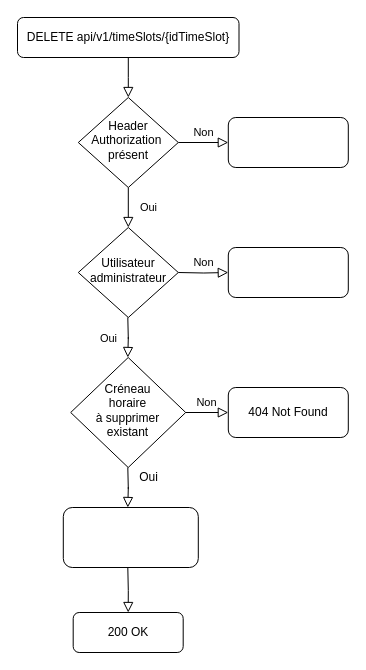
Image size: 366x670. Some labels were removed from this diagram. The centre of each missing label's shape, as x and y in pixels:
"401 Unauthorized" goes at (287,142).
"403 Forbidden" goes at (287,272).
"Suppression du créneau horaire dans la base de données" goes at (130,537).
